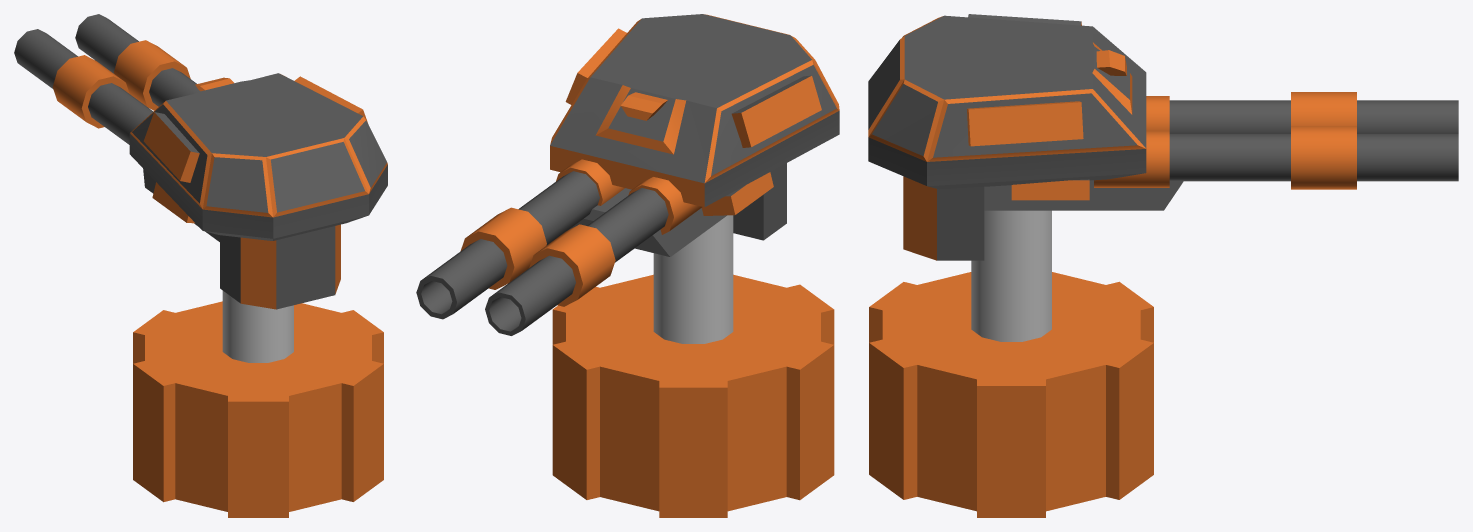
File: Gun_2li.fbx
3 views of the same model, side by side, from view 1: azimuth 30°, elevation 25°; view 2: azimuth 150°, elevation 25°; view 3: azimuth 270°, elevation 25° (orthographic). The views are drawn at different scales.
Visible parts, largest first — view 1: PylonElement.008, Turret.009, Gun.011, Gun.012, Pylon.008; view 2: PylonElement.008, Turret.009, Gun.011, Gun.012, Pylon.008; view 3: PylonElement.008, Turret.009, Gun.012, Gun.011, Pylon.008.
Boxes of the visible parts, box(x1,y1,x2,y2) form: PylonElement.008: box(133, 301, 383, 517); Turret.009: box(129, 73, 387, 309); Gun.011: box(14, 29, 153, 144); Gun.012: box(75, 14, 200, 110); Pylon.008: box(222, 291, 293, 362); PylonElement.008: box(552, 274, 834, 517); Turret.009: box(550, 14, 839, 256); Gun.011: box(485, 188, 668, 335); Gun.012: box(416, 171, 599, 319); Pylon.008: box(653, 215, 733, 343); PylonElement.008: box(869, 272, 1153, 517); Turret.009: box(868, 14, 1183, 260); Gun.012: box(1169, 126, 1458, 189); Gun.011: box(1169, 92, 1458, 133); Pylon.008: box(971, 210, 1051, 341).
Bounding box in the file's own units: 1.16 × 1.77 × 2.38.
